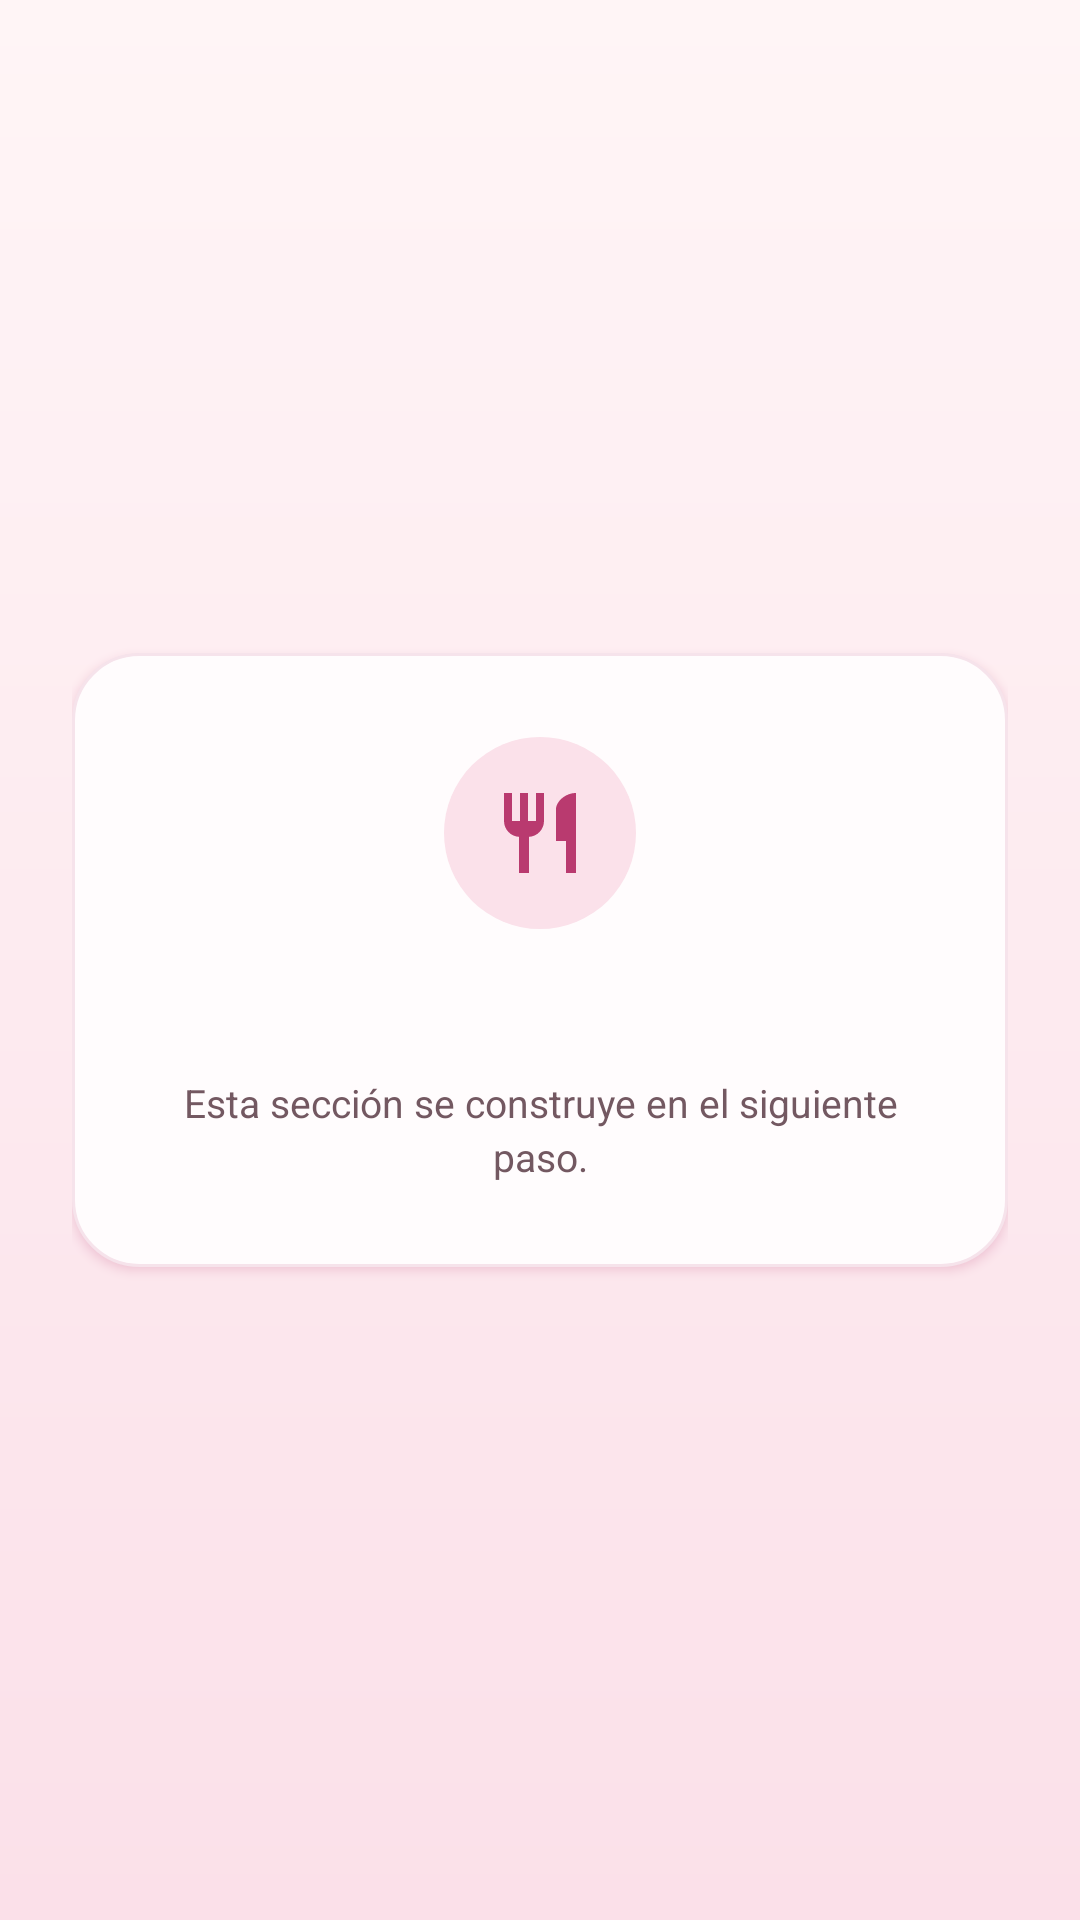

Named icons in this screenshot (1080*1920) and their centers, point (x, y):
cubiertos: point (540, 833)
